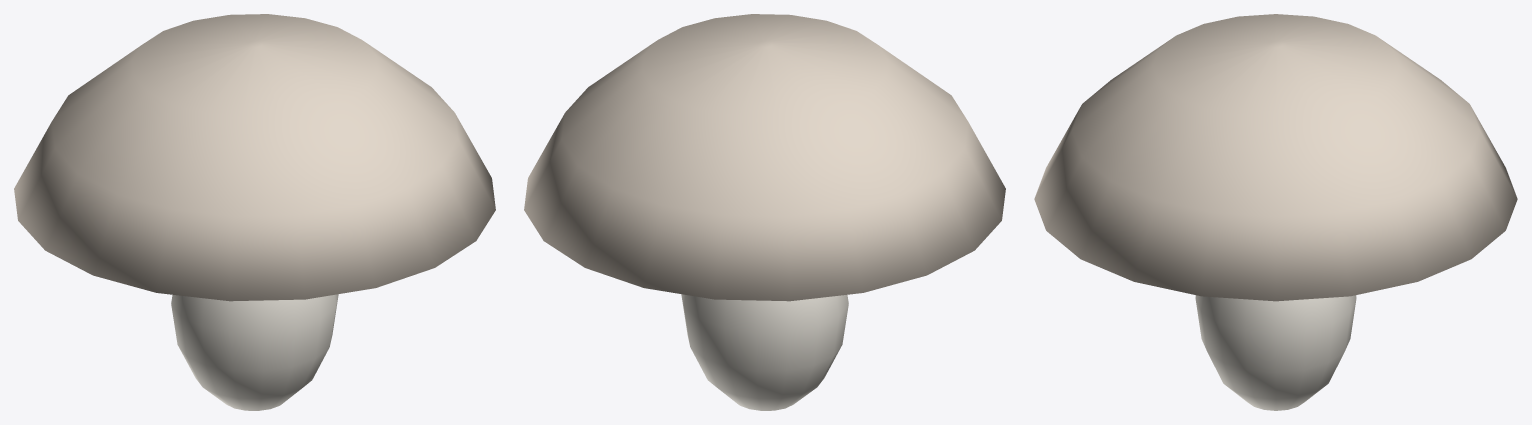
File: mushroom.glb
3 views of the same model, side by side, from view 1: azimuth 30°, elevation 25°; view 2: azimuth 150°, elevation 25°; view 3: azimuth 270°, elevation 25° (orthographic).
Parts seen in each view (by area): view 1: mushroom; view 2: mushroom; view 3: mushroom.
Part boxes in pixels (x1,y1,x2,y2): mushroom: (14, 14, 495, 410); mushroom: (524, 14, 1005, 410); mushroom: (1034, 14, 1517, 410).
Size of the model in its own units: 1.02 by 0.84 by 1.02.
